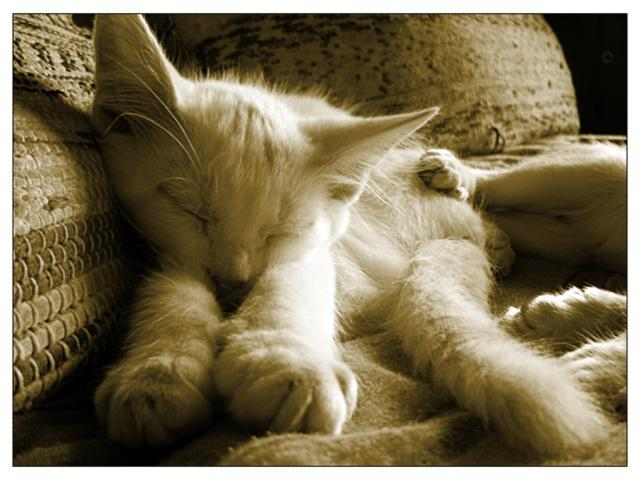Cat: (88, 11, 606, 460)
